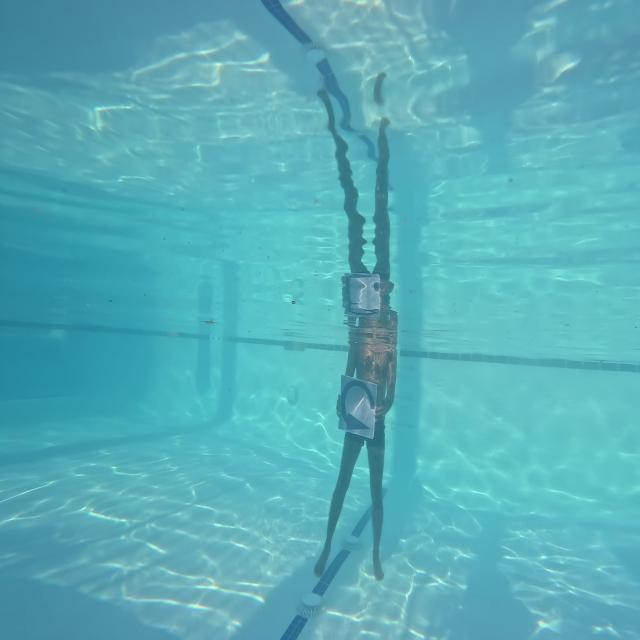blue_side: (337, 367, 378, 437)
